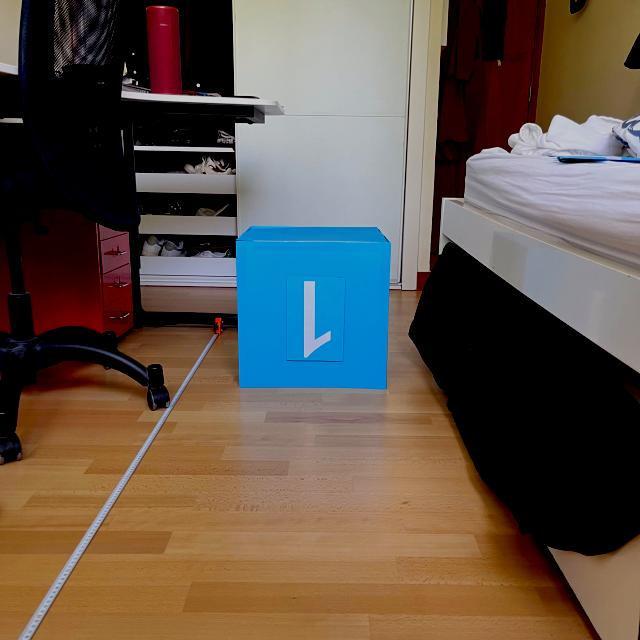box: (231, 220, 394, 392)
